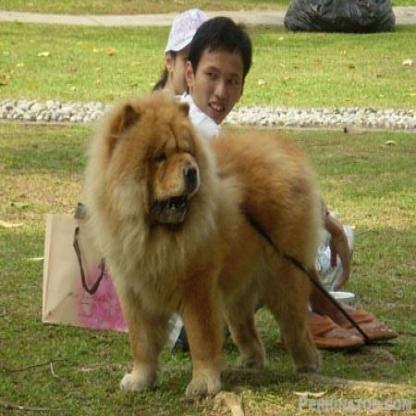chow: (79, 89, 329, 399)
